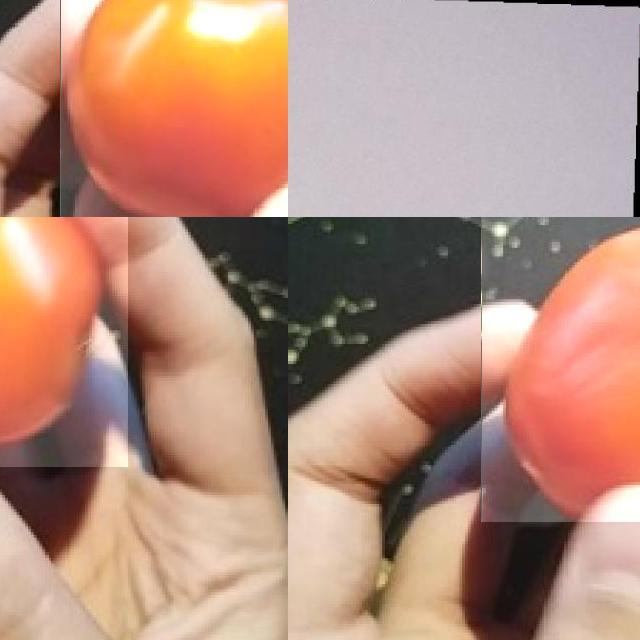Fresh Tomato: (60, 0, 288, 217), (0, 217, 127, 467)
Rotten Tomato: (481, 217, 640, 522)
